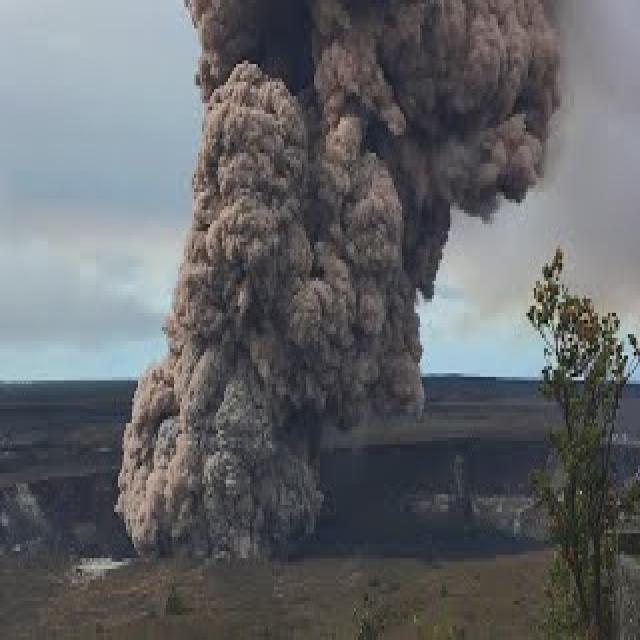Smoke: (114, 0, 565, 563)
